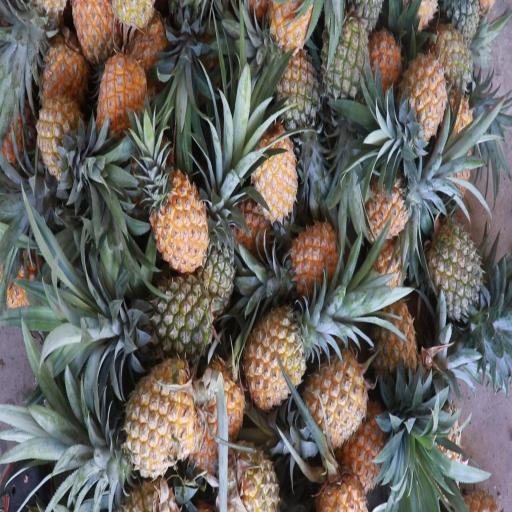------------------------------: (269, 31, 325, 135)
Pineapple - v8 v1: (120, 344, 204, 476), (188, 341, 248, 481), (246, 287, 318, 403), (151, 163, 217, 277), (300, 344, 372, 447), (279, 192, 340, 297), (215, 427, 290, 512), (93, 48, 149, 160), (246, 108, 300, 223), (368, 284, 426, 386), (393, 52, 448, 154), (356, 164, 414, 256), (34, 82, 86, 180), (423, 26, 478, 113), (72, 0, 116, 77)
